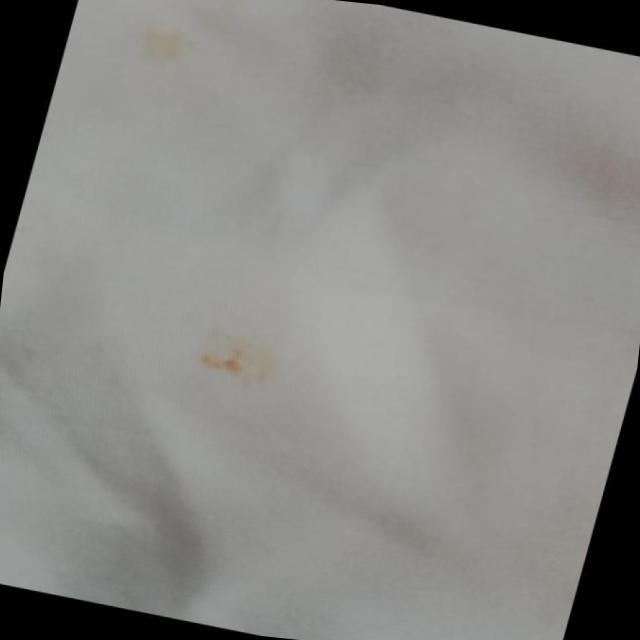stain: (179, 316, 302, 400), (120, 14, 210, 78)
